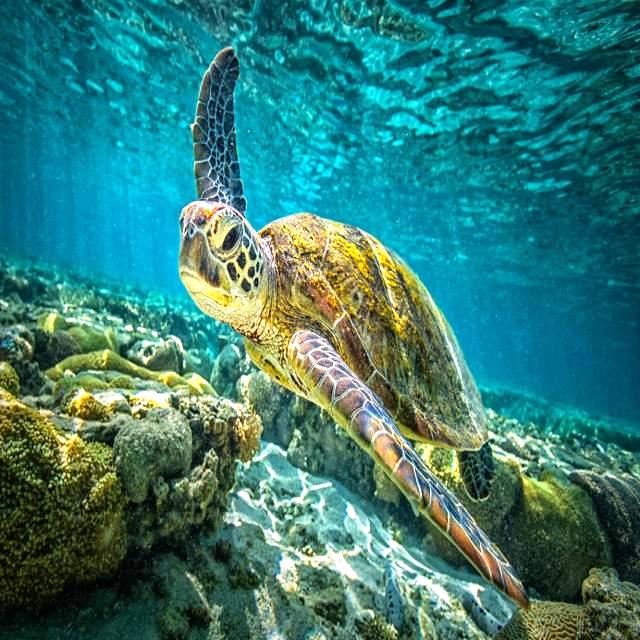Sea turtle: (178, 43, 536, 616)
